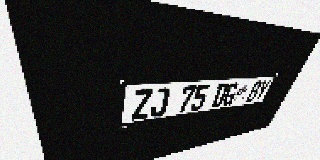5: (190, 84, 210, 111)
7: (176, 85, 197, 113)
B: (245, 81, 263, 102)
D: (210, 83, 230, 108)
G: (221, 82, 240, 106)
J: (149, 87, 170, 118)
Y: (253, 80, 271, 101)
Z: (131, 89, 153, 120)
